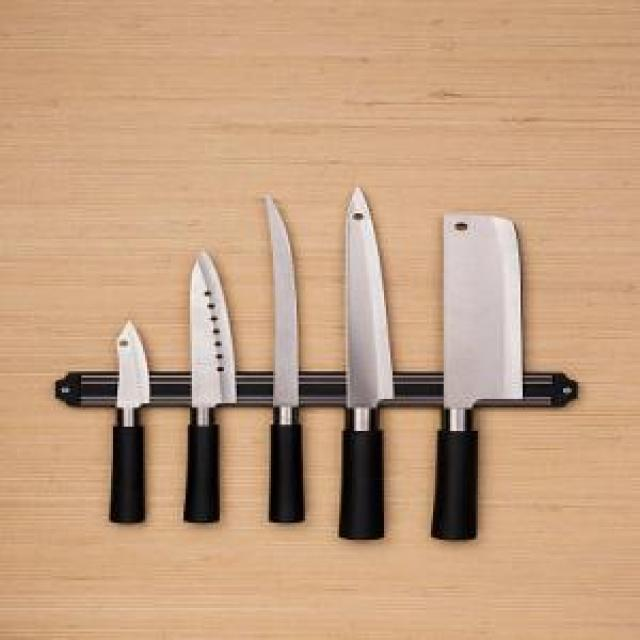knife: (422, 209, 518, 545), (339, 185, 396, 542), (256, 196, 315, 529), (175, 250, 245, 527), (102, 322, 158, 529)
